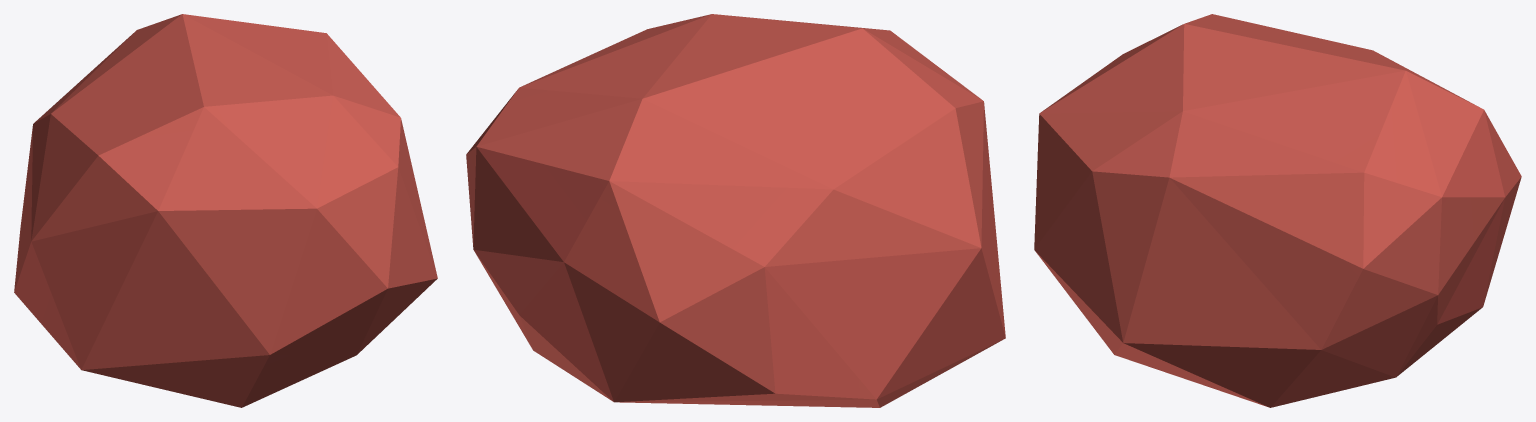
Rendered from redrock4.fbx.
3 renders of one model, left to right at view 1: azimuth 30°, elevation 25°; view 2: azimuth 150°, elevation 25°; view 3: azimuth 270°, elevation 25°, orthographic. The views are drawn at different scales.
Parts seen in each view (by area): view 1: rock.016; view 2: rock.016; view 3: rock.016.
Boxes of the visible parts, box(x1,y1,x2,y2) form: rock.016: box(14, 14, 437, 407); rock.016: box(466, 14, 1005, 407); rock.016: box(1034, 14, 1521, 407).
Size of the model in its own units: 156 by 114 by 159.
